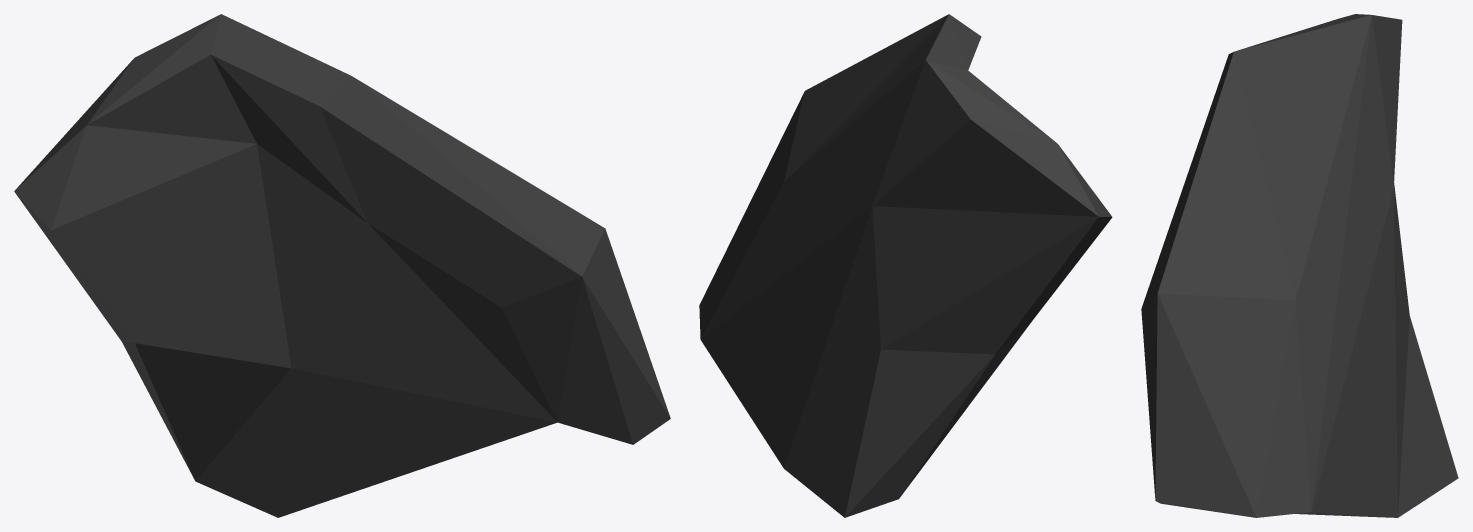
The model's file is Femur_medial_supracondylar_tuberosity.glb.
3 renders of one model, left to right at view 1: azimuth 30°, elevation 25°; view 2: azimuth 150°, elevation 25°; view 3: azimuth 270°, elevation 25°, orthographic. The views are drawn at different scales.
Visible parts, largest first — view 1: Femur_medial_supracondylar_tuberosity; view 2: Femur_medial_supracondylar_tuberosity; view 3: Femur_medial_supracondylar_tuberosity.
Boxes of the visible parts, left/top/right/bottom form: Femur_medial_supracondylar_tuberosity: left=14, top=14, right=670, bottom=517; Femur_medial_supracondylar_tuberosity: left=699, top=14, right=1112, bottom=517; Femur_medial_supracondylar_tuberosity: left=1141, top=14, right=1458, bottom=517.
Bounding box in the file's own units: 0.0123 × 0.0118 × 0.00723.
1 material, 1 textured.
